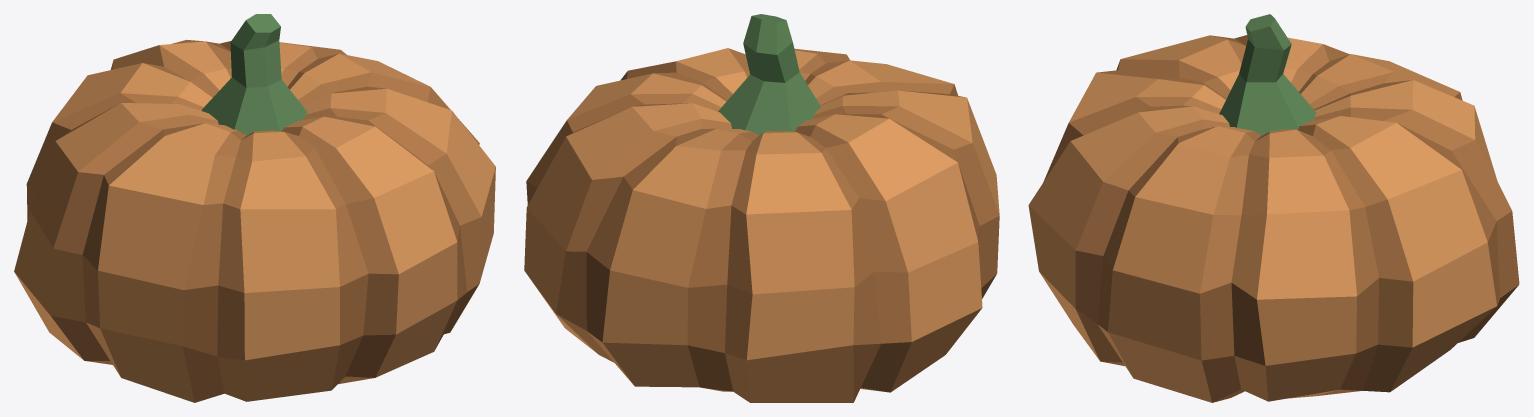
File: SM_Item_Pumpkin_01.fbx
3 views of the same model, side by side, from view 1: azimuth 30°, elevation 25°; view 2: azimuth 150°, elevation 25°; view 3: azimuth 270°, elevation 25° (orthographic).
Visible parts, largest first — view 1: SM_Item_Pumpkin_01; view 2: SM_Item_Pumpkin_01; view 3: SM_Item_Pumpkin_01.
Part boxes in pixels (<box>): SM_Item_Pumpkin_01: <box>14,14,495,402</box>; SM_Item_Pumpkin_01: <box>524,14,999,402</box>; SM_Item_Pumpkin_01: <box>1028,14,1519,402</box>.
Size of the model in its own units: 43.49 by 31.9 by 42.95.
